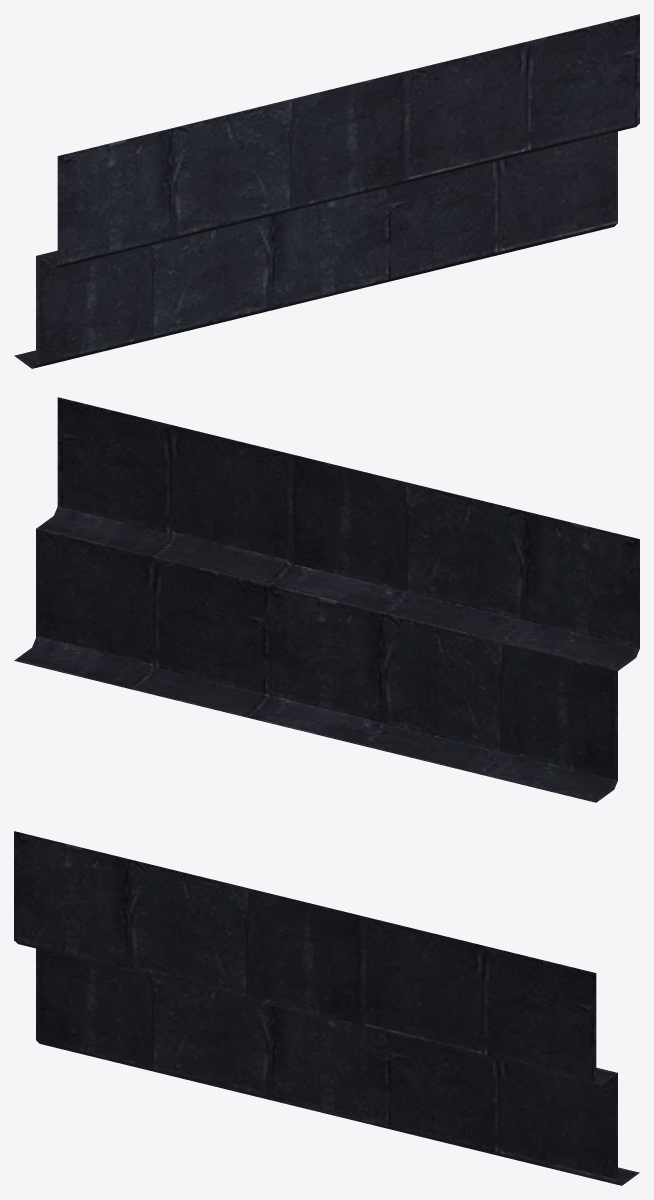
3 renders of one model, top to bottom at view 1: azimuth 30°, elevation 25°; view 2: azimuth 150°, elevation 25°; view 3: azimuth 330°, elevation 25°, orthographic.
Parts seen in each view (by area): view 1: model_Object122; view 2: model_Object122; view 3: model_Object122.
Boxes of the visible parts, x1,y1,x2,y2 form: model_Object122: [14, 14, 639, 368]; model_Object122: [14, 397, 639, 802]; model_Object122: [14, 831, 639, 1185].
Size of the model in its own units: 2.86 by 1.09 by 0.3718.
1 material, 1 textured.
